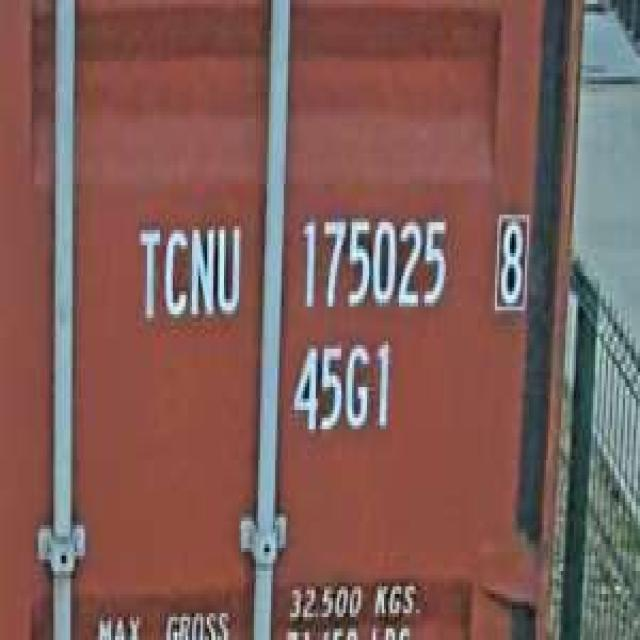dv: (489, 199, 531, 322)
owner: (132, 211, 245, 333)
serial: (292, 203, 454, 322)
size: (286, 330, 397, 444)
